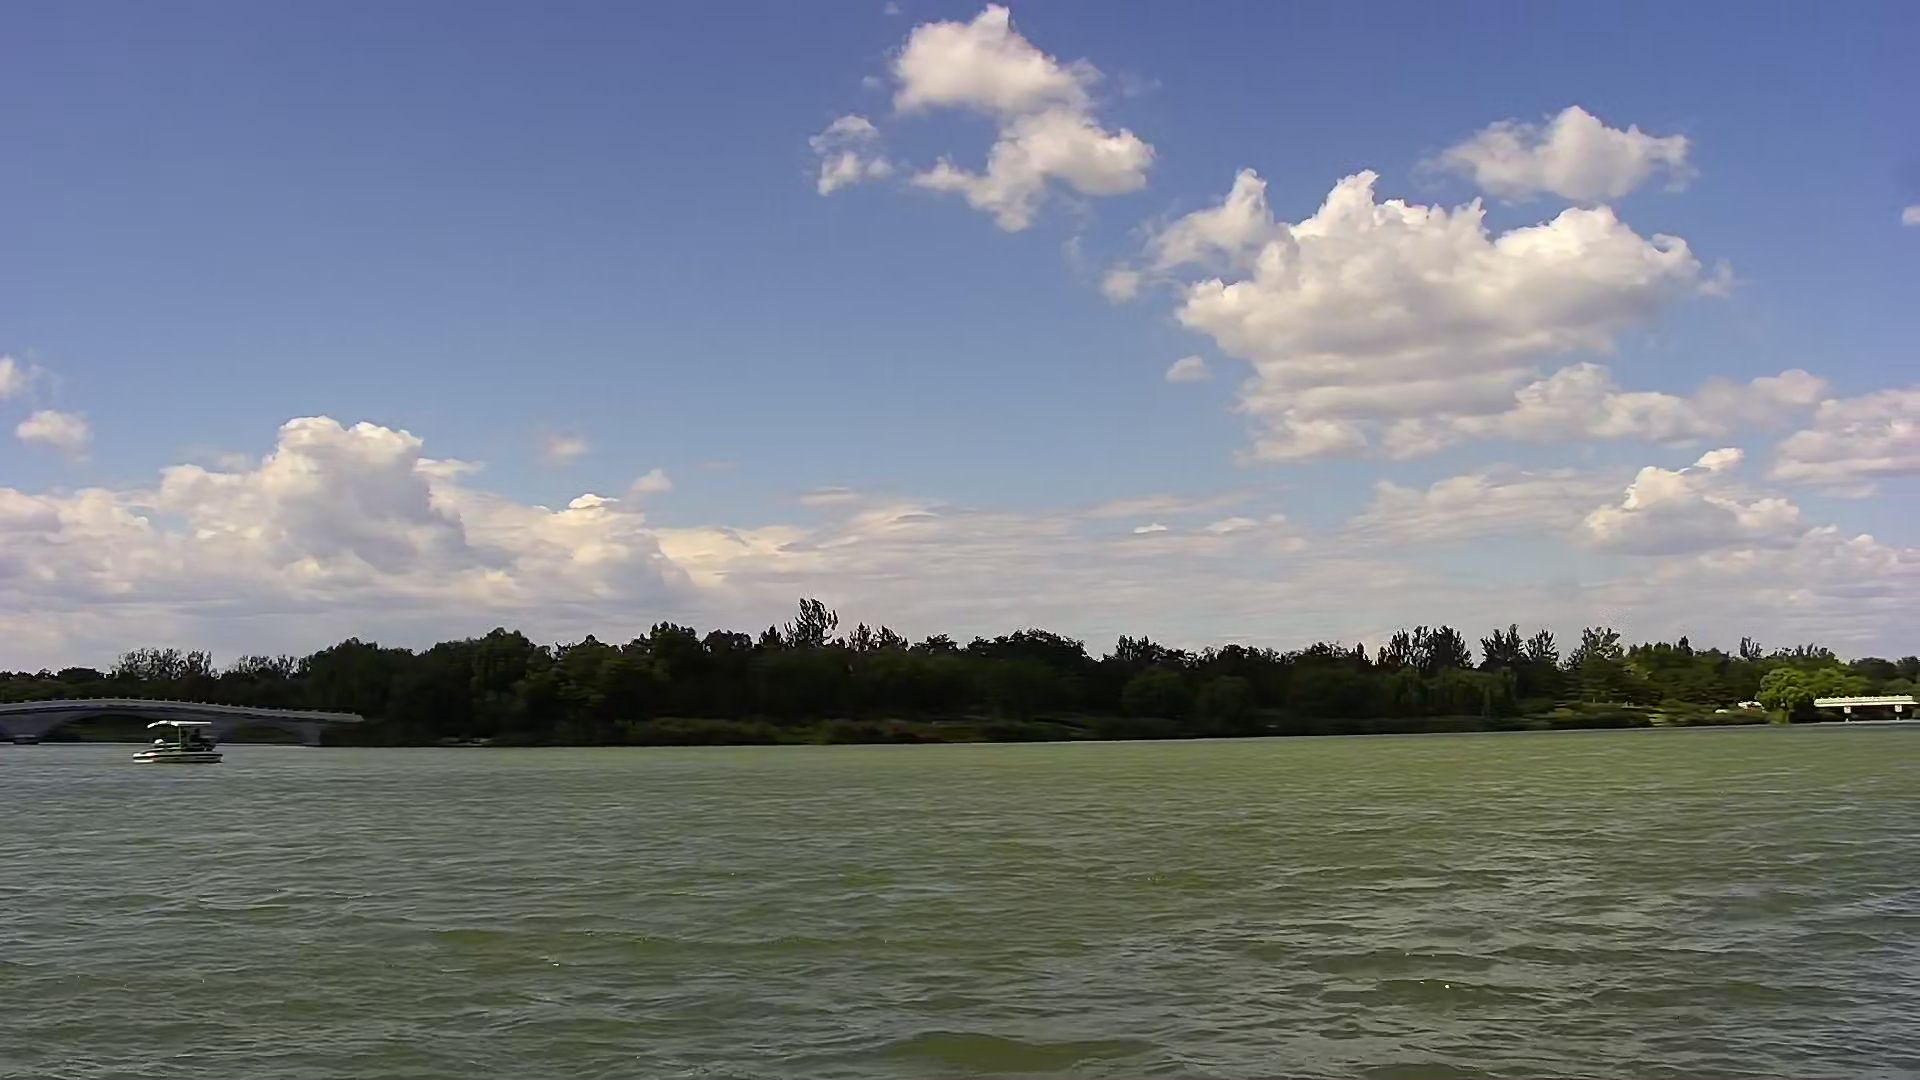boat: (127, 716, 224, 767)
bridge: (1, 695, 372, 753), (1805, 688, 1920, 727)
